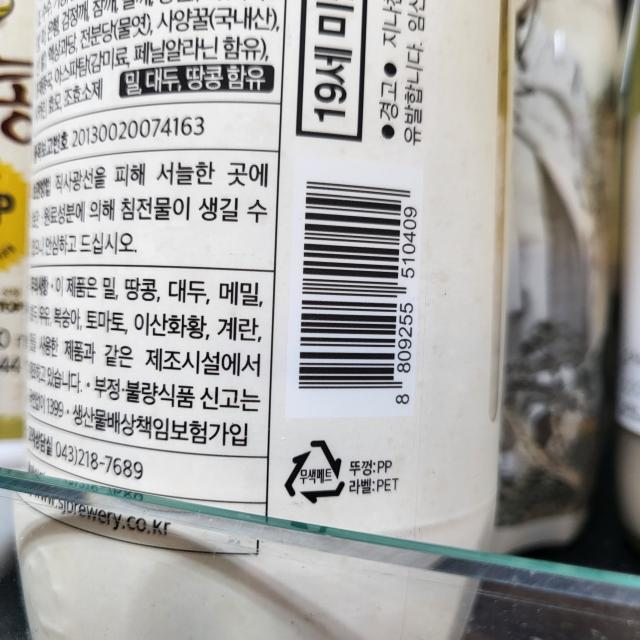ColorlessPET: (279, 434, 349, 510)
